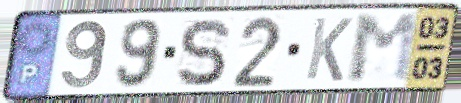2: (231, 13, 285, 89)
9: (114, 17, 164, 91), (59, 18, 109, 91)
K: (302, 15, 355, 84)
M: (346, 11, 421, 86)
S: (174, 16, 232, 89)
